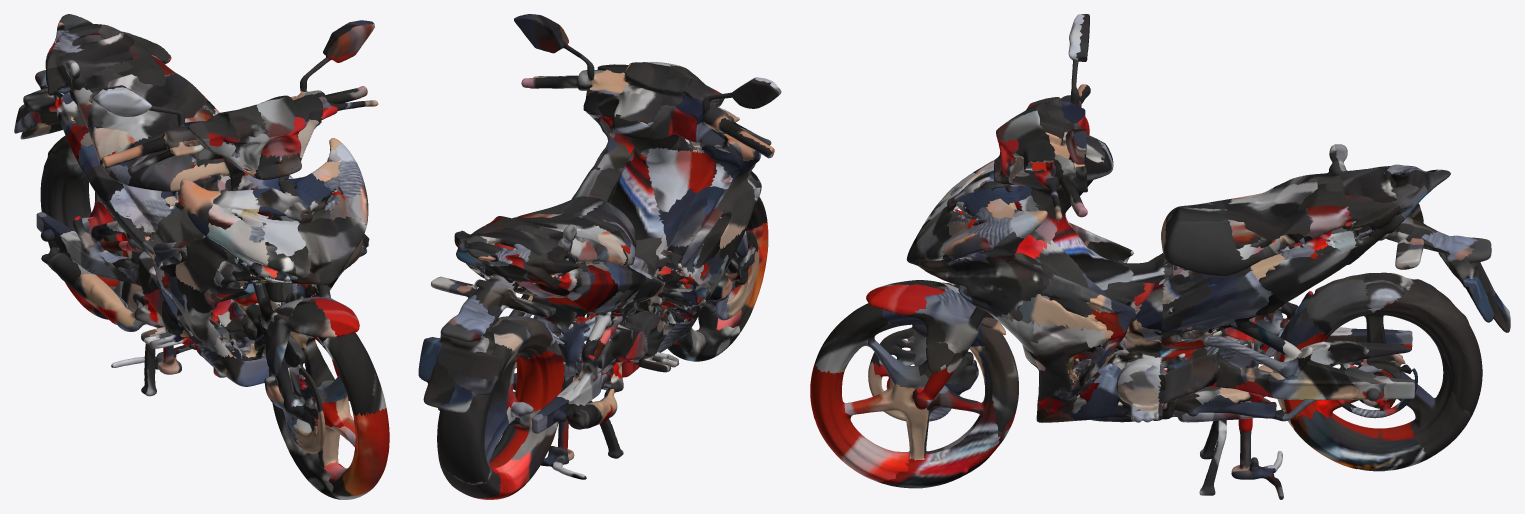
3 views of the same model, side by side, from view 1: azimuth 30°, elevation 25°; view 2: azimuth 150°, elevation 25°; view 3: azimuth 270°, elevation 25° (orthographic). The views are drawn at different scales.
Visible parts, largest first — view 1: tripo_node_78fd5035-f007-4ae1-a076-75bf6b0e2362; view 2: tripo_node_78fd5035-f007-4ae1-a076-75bf6b0e2362; view 3: tripo_node_78fd5035-f007-4ae1-a076-75bf6b0e2362.
Boxes of the visible parts, x1=… form: tripo_node_78fd5035-f007-4ae1-a076-75bf6b0e2362: x1=14, y1=14, x2=389, y2=499; tripo_node_78fd5035-f007-4ae1-a076-75bf6b0e2362: x1=418, y1=14, x2=781, y2=499; tripo_node_78fd5035-f007-4ae1-a076-75bf6b0e2362: x1=810, y1=14, x2=1510, y2=499.
Bounding box in the file's own units: 48.26 × 63.88 × 100.
